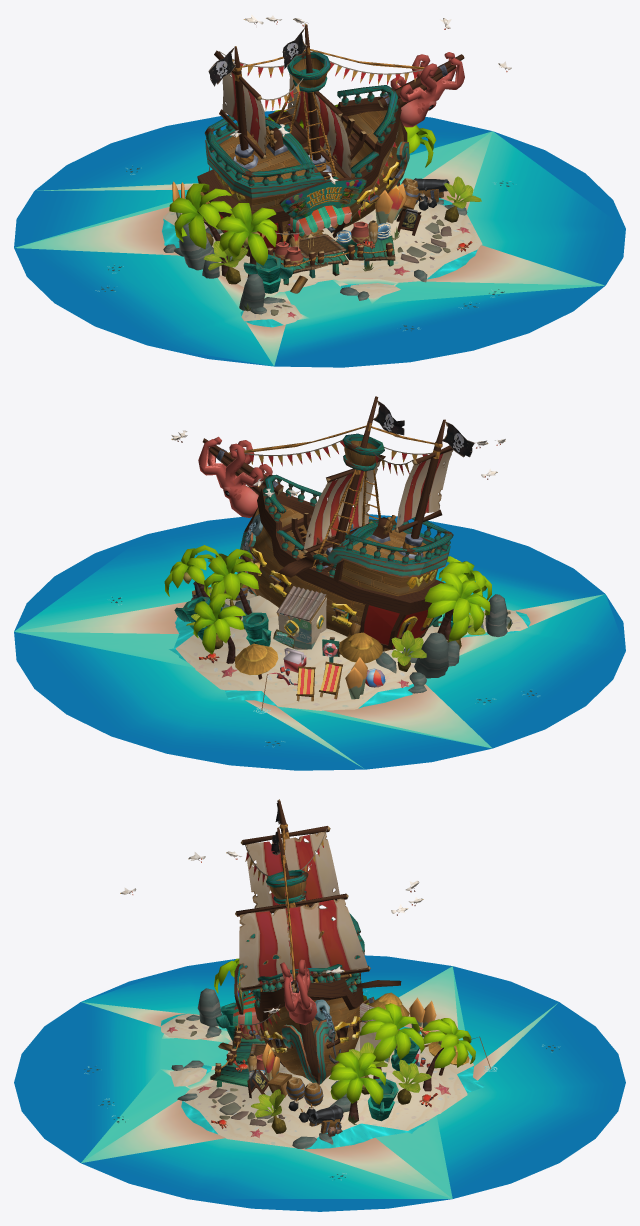
File: reducedPirate.obj
3 views of the same model, one above another, from view 1: azimuth 30°, elevation 25°; view 2: azimuth 150°, elevation 25°; view 3: azimuth 270°, elevation 25° (orthographic).
Parts seen in each view (by area): view 1: Ship_Untitled; view 2: Ship_Untitled; view 3: Ship_Untitled.
Part boxes in pixels (box(x1,y1,x2,y2)): Ship_Untitled: box(14, 14, 625, 367); Ship_Untitled: box(14, 396, 625, 770); Ship_Untitled: box(14, 799, 625, 1211).
Bounding box in the file's own units: 32.11 × 14.52 × 32.11.
